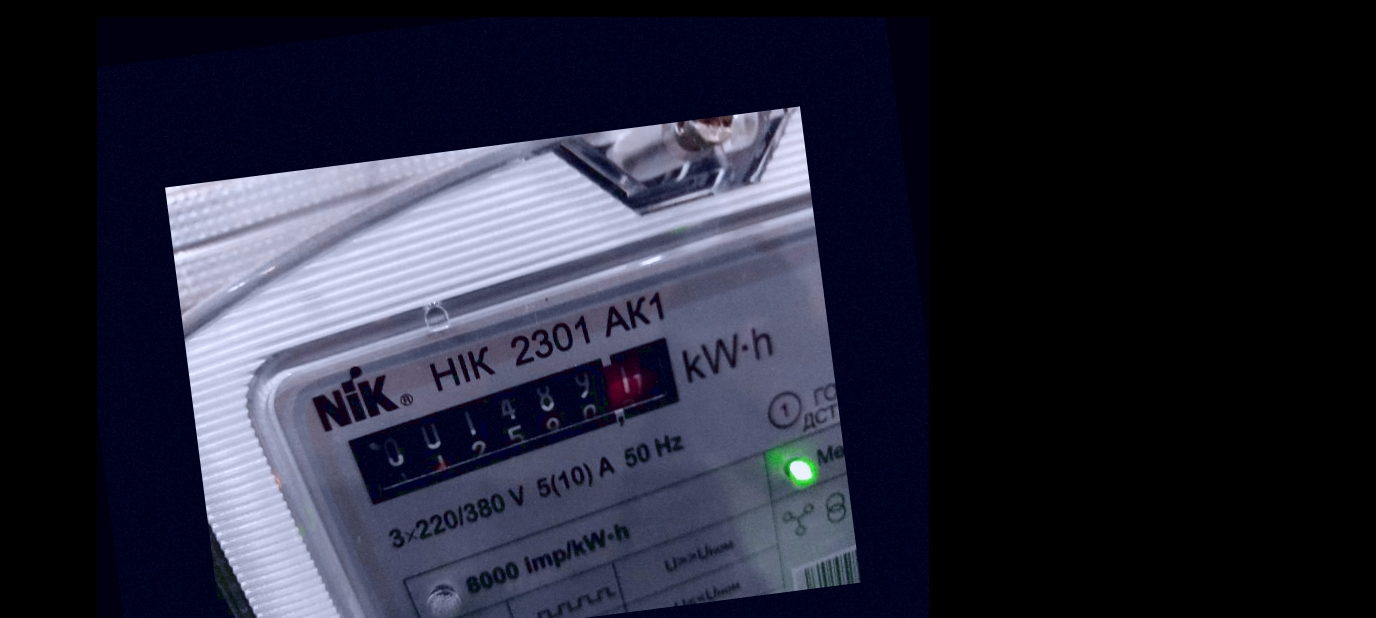0: (415, 414, 445, 453), (379, 433, 407, 471)
1: (612, 358, 636, 398), (458, 406, 482, 439)
4: (495, 391, 520, 424)
8: (533, 378, 559, 416)
9: (571, 367, 595, 401)
screen: (327, 323, 719, 520)
